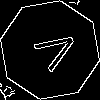V: (25, 25, 82, 78)
